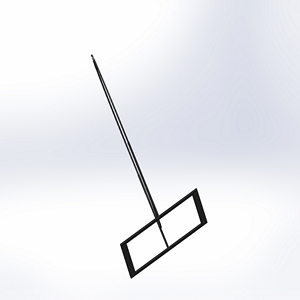circle: (87, 51, 208, 277)
